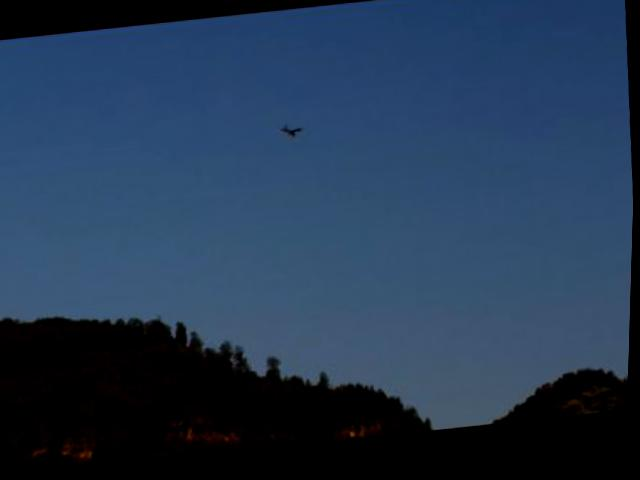uav: (280, 123, 303, 142)
